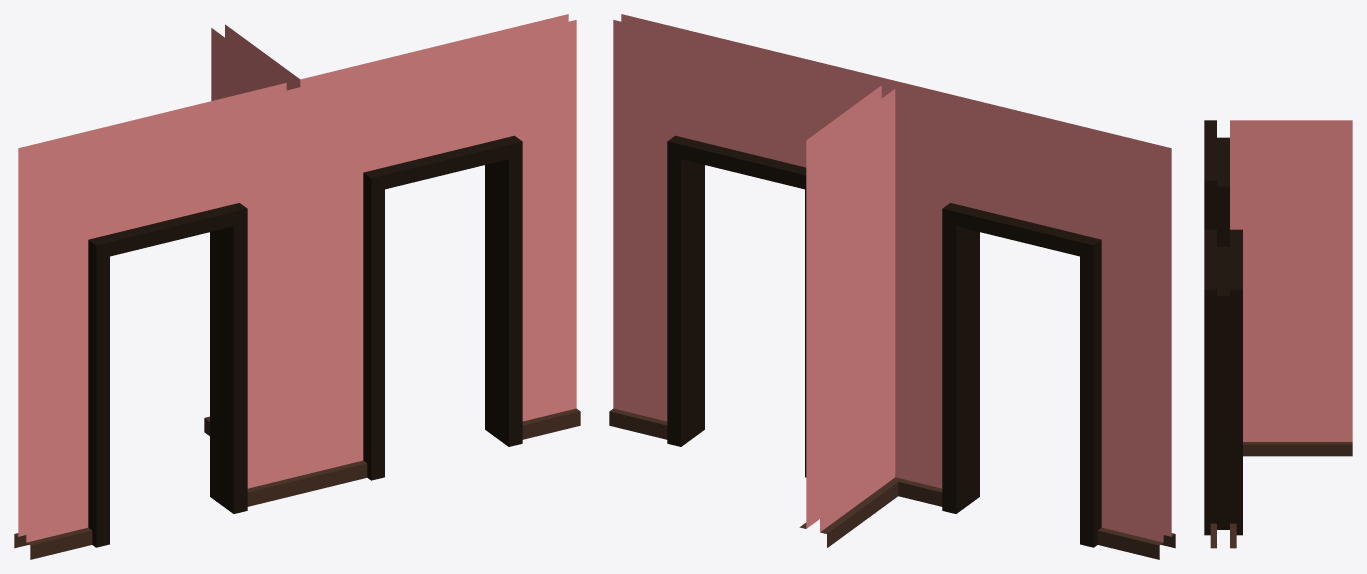
File: SM_T_Porte.fbx
3 renders of one model, left to right at view 1: azimuth 30°, elevation 25°; view 2: azimuth 150°, elevation 25°; view 3: azimuth 270°, elevation 25°, orthographic. The views are drawn at different scales.
Visible parts, largest first — view 1: SM_T_Porte; view 2: SM_T_Porte; view 3: SM_T_Porte.
Boxes of the visible parts, bbox=[...] form: SM_T_Porte: bbox=[14, 14, 580, 559]; SM_T_Porte: bbox=[609, 14, 1175, 559]; SM_T_Porte: bbox=[1204, 120, 1352, 548].
Bounding box in the file's own units: 4 × 2.8 × 1.15.
